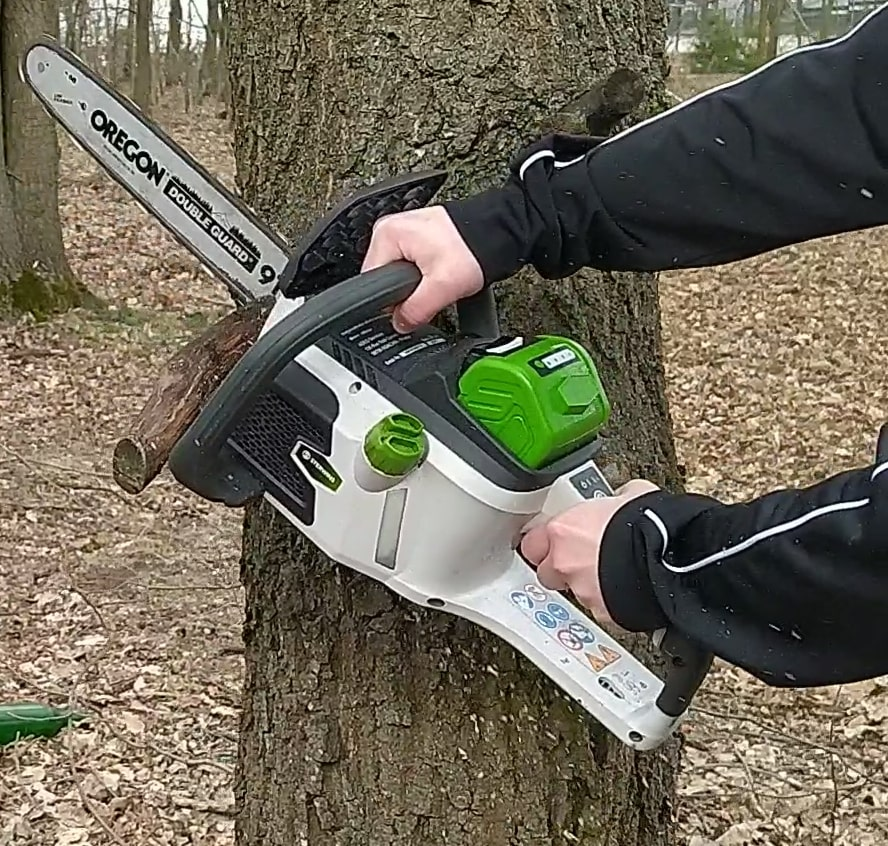chainsaw: (10, 27, 747, 810)
